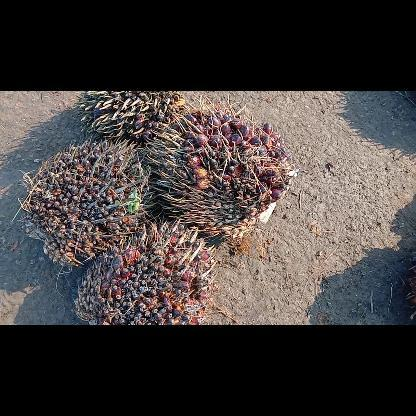TBS abnormal: (17, 136, 152, 268), (71, 216, 220, 324), (72, 90, 186, 146)
TBS masak: (146, 100, 294, 240)
